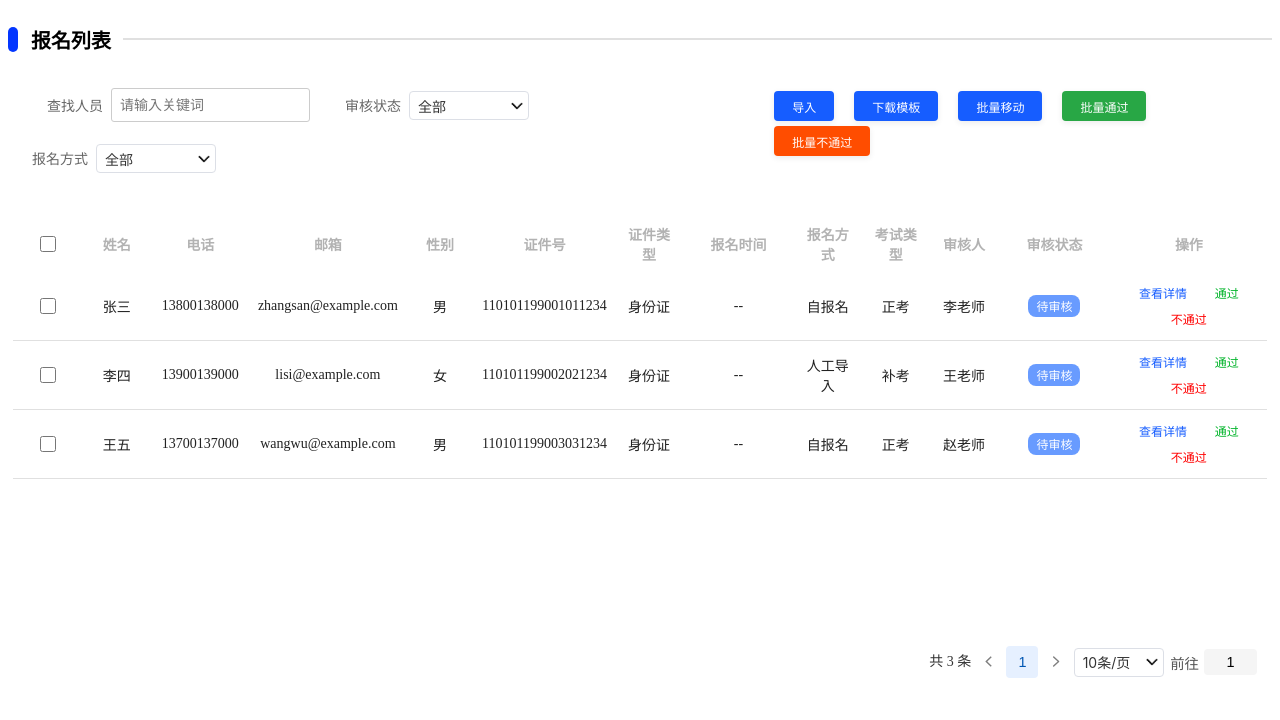
Test: EnrollManagement › 交互功能测试 › 单个不通过操作
Expected: the text "张三" is shown, [83, 272, 151, 341]
Click the button with test id "reject-btn" in the row of "张三": (1189, 319) [1163, 306, 1215, 332]
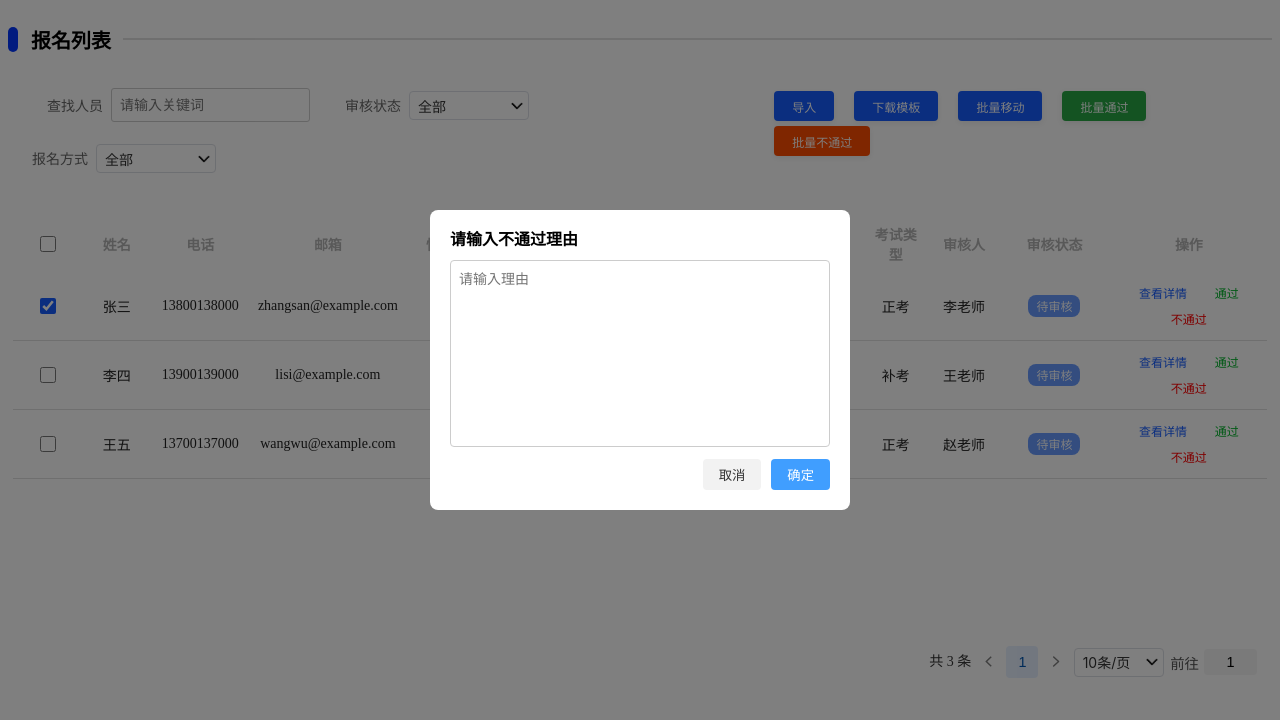
Expected: the heading "请输入不通过理由" is shown, [450, 231, 578, 248]
